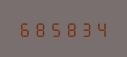eight: (32, 20, 46, 37), (63, 20, 77, 37)
five: (48, 20, 62, 37)
four: (93, 20, 107, 37)
six: (17, 20, 31, 37)
three: (78, 20, 92, 37)
